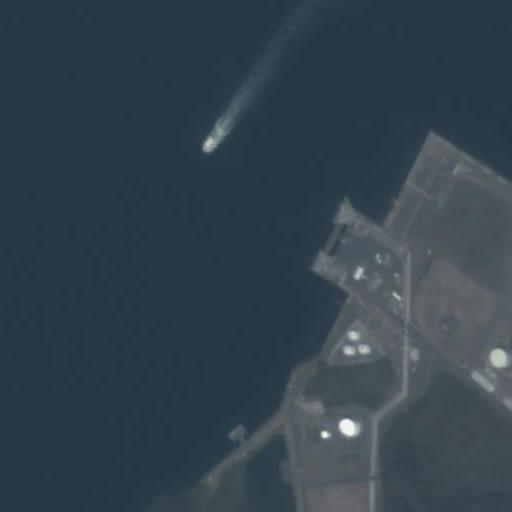person: (202, 136, 216, 153)
